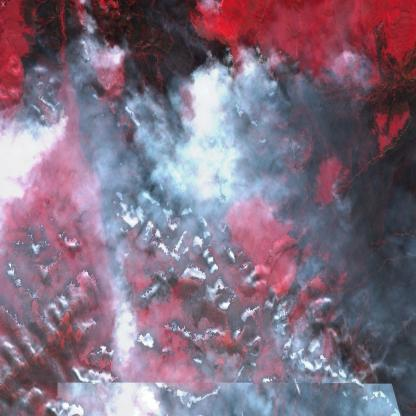fire: (247, 41, 281, 77), (0, 93, 33, 130), (48, 100, 72, 138), (116, 240, 136, 276)
